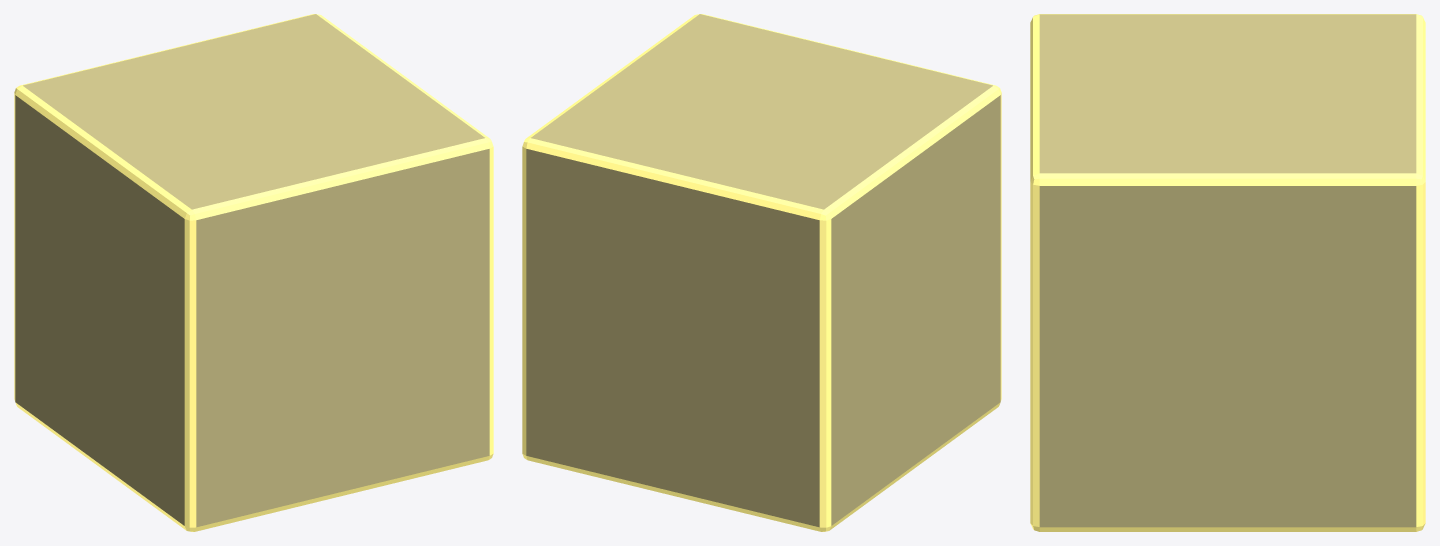
File: BTC_anim.glb
The picture shows the model from 3 angles, left to right: view 1: azimuth 30°, elevation 25°; view 2: azimuth 150°, elevation 25°; view 3: azimuth 270°, elevation 25°; orthographic projection. The views are drawn at different scales.
Visible parts, largest first — view 1: BTC_little; view 2: BTC_little; view 3: BTC_little.
Part boxes in pixels (left/top/right/bottom): BTC_little: left=14, top=14, right=493, bottom=531; BTC_little: left=522, top=14, right=1001, bottom=531; BTC_little: left=1030, top=14, right=1425, bottom=531.
Bounding box in the file's own units: 0.45 × 0.45 × 0.45.
